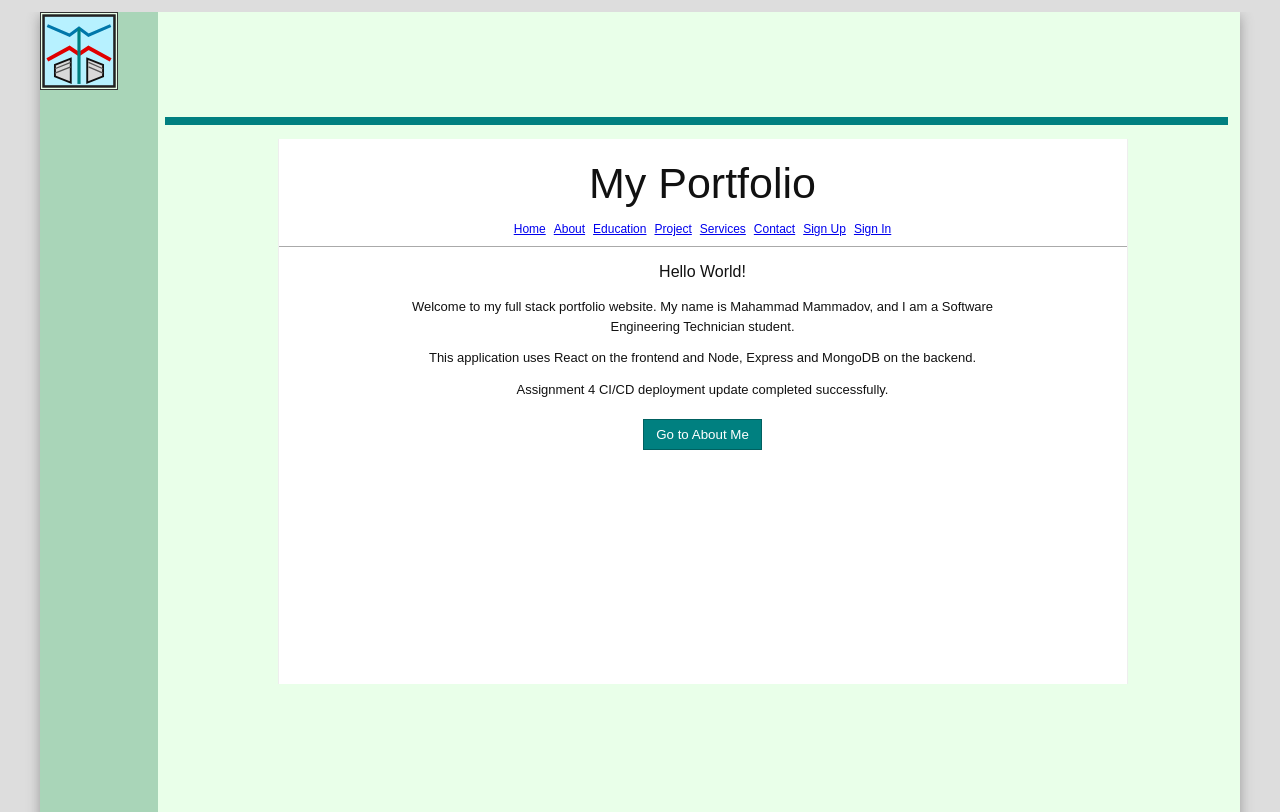
Test: Portfolio App › renders the home page and navigates to About
expect the heading "My Portfolio" is shown: met, box x1=589 y1=159 x2=816 y2=207
expect the text "Welcome to my full stack portfolio website" is shown: met, box x1=412 y1=299 x2=993 y2=334
Click the button "About" at (569, 229), box x1=554 y1=222 x2=585 y2=236
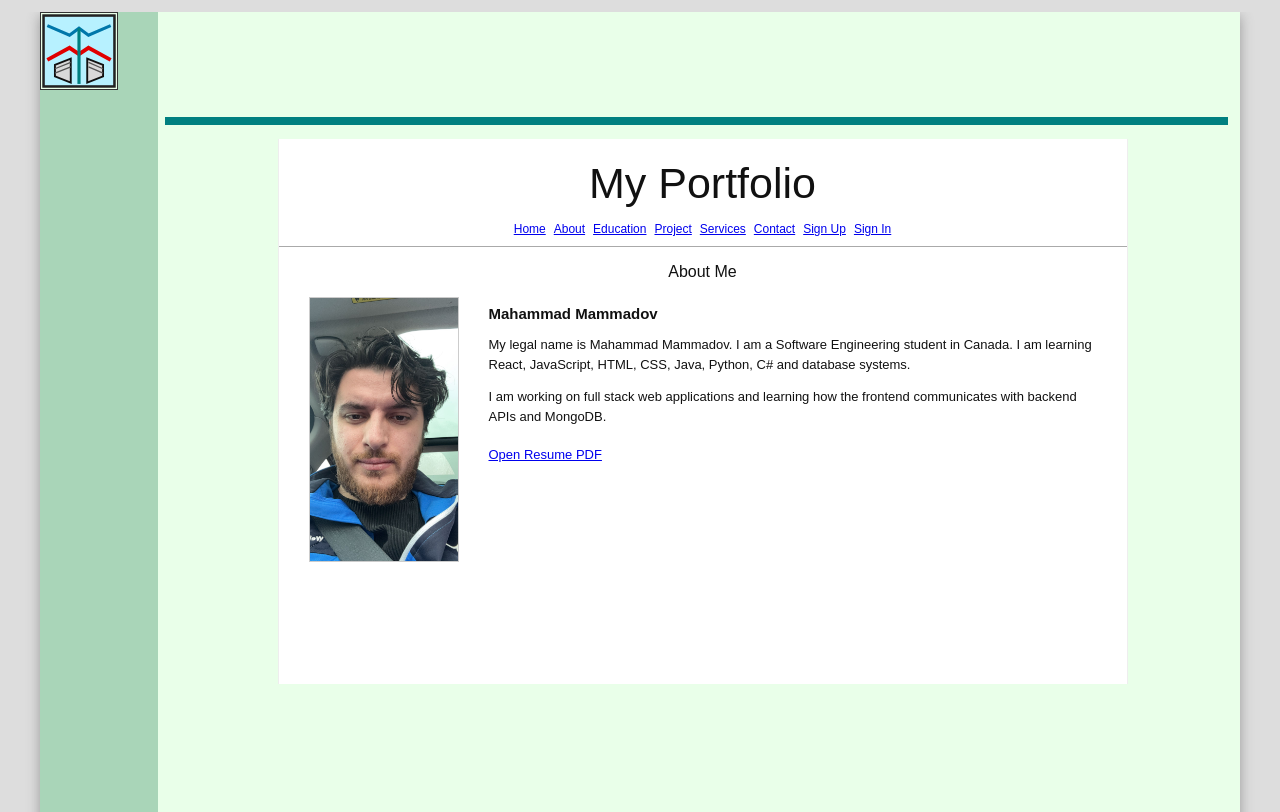
expect the heading "About Me" is shown: met, box x1=668 y1=263 x2=737 y2=280
expect the heading "Mahammad Mammadov" is shown: met, box x1=488 y1=305 x2=658 y2=322
